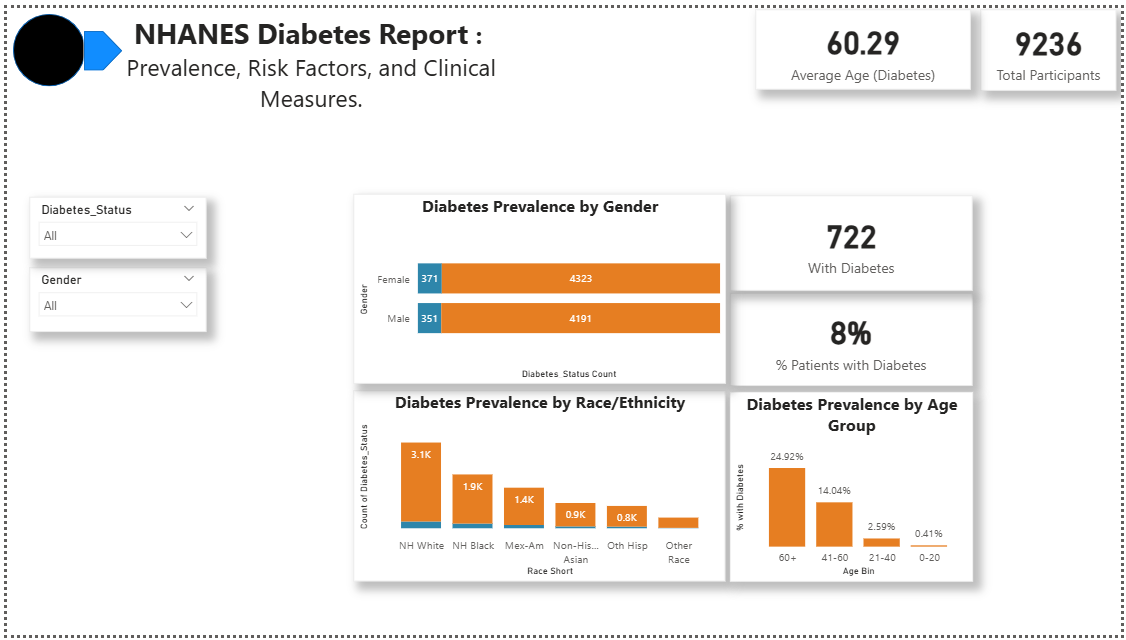

The dashboard page shown, as its layout file describes it:
{"tool":"powerbi","page":{"name":" Diabetes Overview","canvas":[1280,720],"ordinal":0},"visuals":[{"type":"card","fields":{"Values":["measure.Total Participants"]},"box":[1118.3,1,156.1,93.1],"z":0},{"type":"textbox","box":[99,1,502.8,149],"z":1000,"group":"g2"},{"type":"card","fields":{"Values":["measure.Average Age (Diabetes)"]},"box":[859.7,1.1,247.2,92.3],"z":1000},{"type":"card","fields":{"Values":["measure.% Patients with Diabetes"]},"box":[830.9,327.4,278.4,106.6],"z":2000},{"type":"card","fields":{"Values":["measure.With Diabetes"]},"box":[830.6,215,278.6,109],"z":3000},{"type":"columnChart","title":"Diabetes Prevalence by Race/Ethnicity","fields":{"Y":["CountNonNull(diabetes_analysis.Diabetes_Status)"],"Series":["diabetes_analysis.Diabetes_Status"],"Category":["diabetes_analysis.Race Short"]},"box":[397.8,439.7,427.4,219.4],"z":4000},{"type":"clusteredColumnChart","title":"Diabetes Prevalence by Age Group","fields":{"Category":["diabetes_analysis.Age Bin"],"Y":["measure.% with Diabetes"]},"box":[831.6,441.3,279,217.7],"z":5000},{"type":"hundredPercentStackedBarChart","title":"Diabetes Prevalence by Gender","fields":{"Category":["diabetes_analysis.Gender"],"Y":["CountNonNull(diabetes_analysis.Diabetes_Status)"],"Series":["diabetes_analysis.Diabetes_Status"]},"box":[398.2,214.4,427.9,217.9],"z":6000},{"type":"slicer","fields":{"Values":["diabetes_analysis.Gender"]},"box":[25.8,297.6,203.2,74.2],"z":7000},{"type":"group","id":"g1","title":"Group 1","box":[7.3,6.7,126.1,83.1],"z":8000,"group":"g2"},{"type":"shape","box":[7.3,6.7,83.1,83.1],"z":8000,"group":"g1"},{"type":"slicer","fields":{"Values":["diabetes_analysis.Diabetes_Status"]},"box":[25.8,217,203.2,71],"z":8000},{"type":"group","id":"g2","title":"Group 2","box":[7.3,1,594.4,149],"z":9000},{"type":"shape","box":[87.5,25.3,45.8,47.3],"z":9000,"group":"g1"}]}

Visuals, with their boxes in screenshot pixels (x1, y1, x2, y2), scaled from the page's 1280x720 canvas onto the 1126x640 screenshot:
card - measure.Total Participants: {"left": 984, "top": 1, "right": 1121, "bottom": 84}
textbox: {"left": 87, "top": 1, "right": 529, "bottom": 133}
card - measure.Average Age (Diabetes): {"left": 756, "top": 1, "right": 974, "bottom": 83}
card - measure.% Patients with Diabetes: {"left": 731, "top": 291, "right": 976, "bottom": 386}
card - measure.With Diabetes: {"left": 731, "top": 191, "right": 976, "bottom": 288}
"Diabetes Prevalence by Race/Ethnicity" columnChart: {"left": 350, "top": 391, "right": 726, "bottom": 586}
"Diabetes Prevalence by Age Group" clusteredColumnChart: {"left": 732, "top": 392, "right": 977, "bottom": 586}
"Diabetes Prevalence by Gender" hundredPercentStackedBarChart: {"left": 350, "top": 191, "right": 727, "bottom": 384}
slicer - diabetes_analysis.Gender: {"left": 23, "top": 265, "right": 201, "bottom": 330}
"Group 1" group: {"left": 6, "top": 6, "right": 117, "bottom": 80}
shape: {"left": 6, "top": 6, "right": 80, "bottom": 80}
slicer - diabetes_analysis.Diabetes_Status: {"left": 23, "top": 193, "right": 201, "bottom": 256}
"Group 2" group: {"left": 6, "top": 1, "right": 529, "bottom": 133}
shape: {"left": 77, "top": 22, "right": 117, "bottom": 65}
